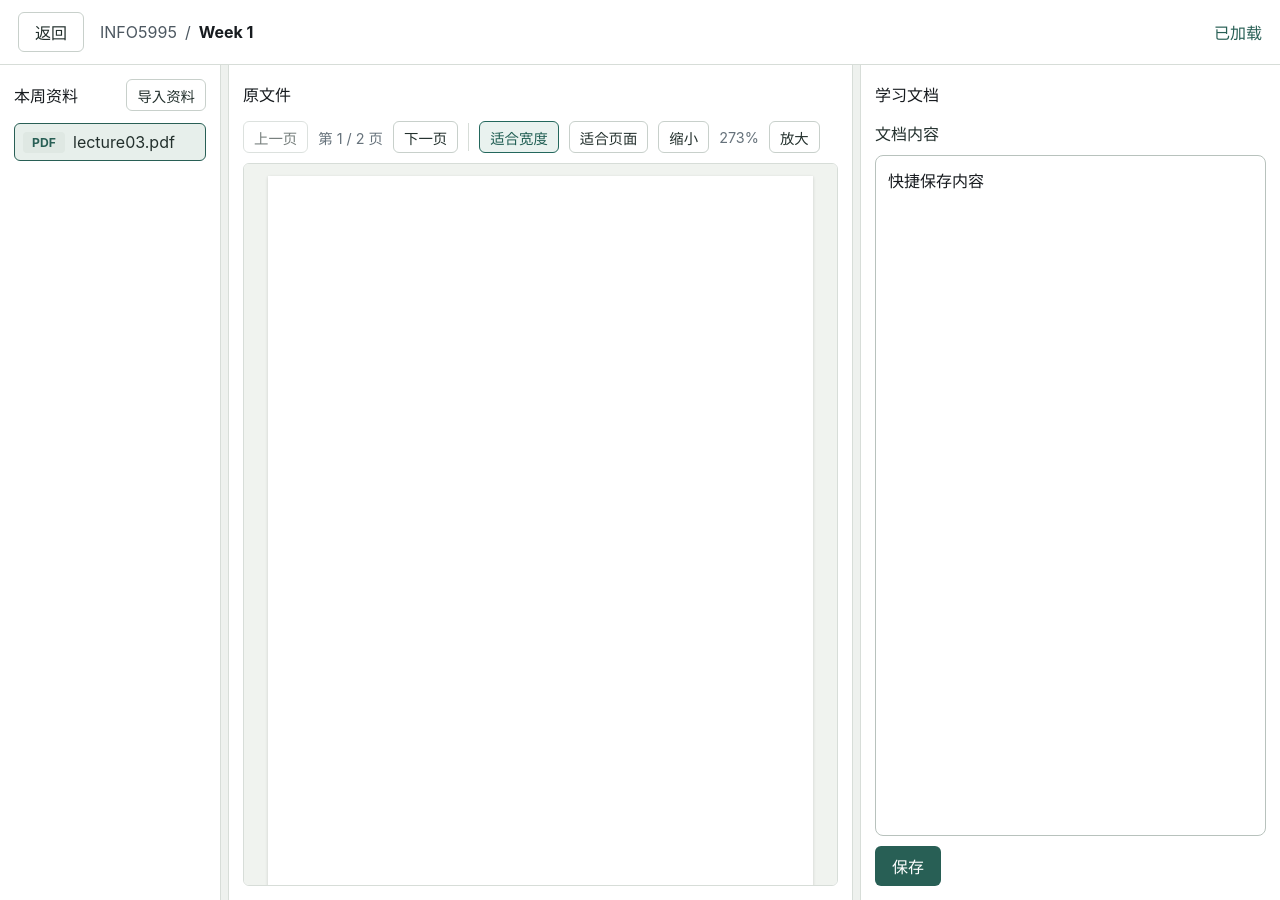
Test: WorkspacePage › Cmd 或 Ctrl + S 可以保存
Expected: the text "INFO5995" is shown, [100,22,177,42]
Expected: the text "Week 1" is shown, [199,22,253,42]
Clear the field named "文档内容". click: (1070, 496)
box: [875,155,1266,836]
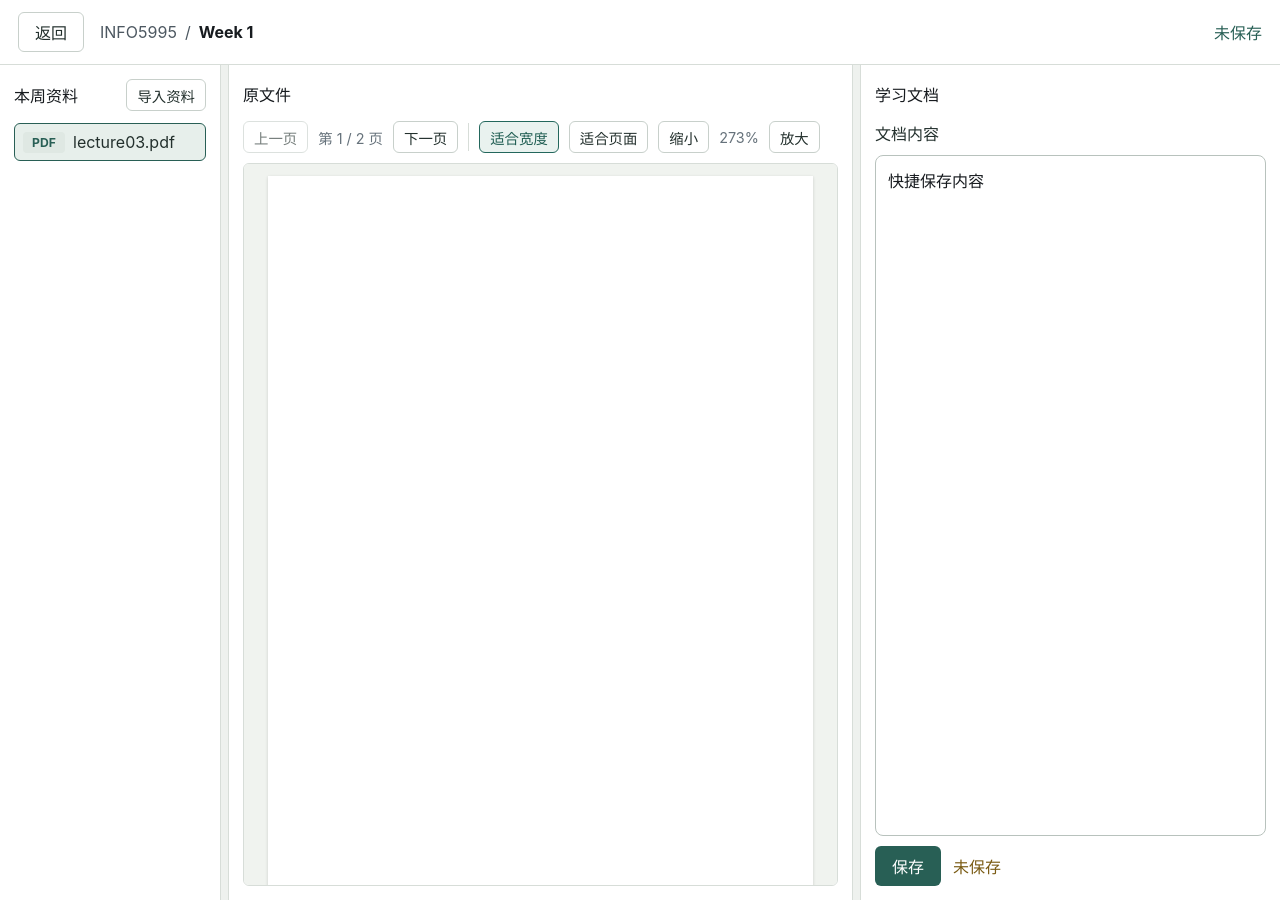
Press s in the field named "文档内容", box [875,155,1266,836]
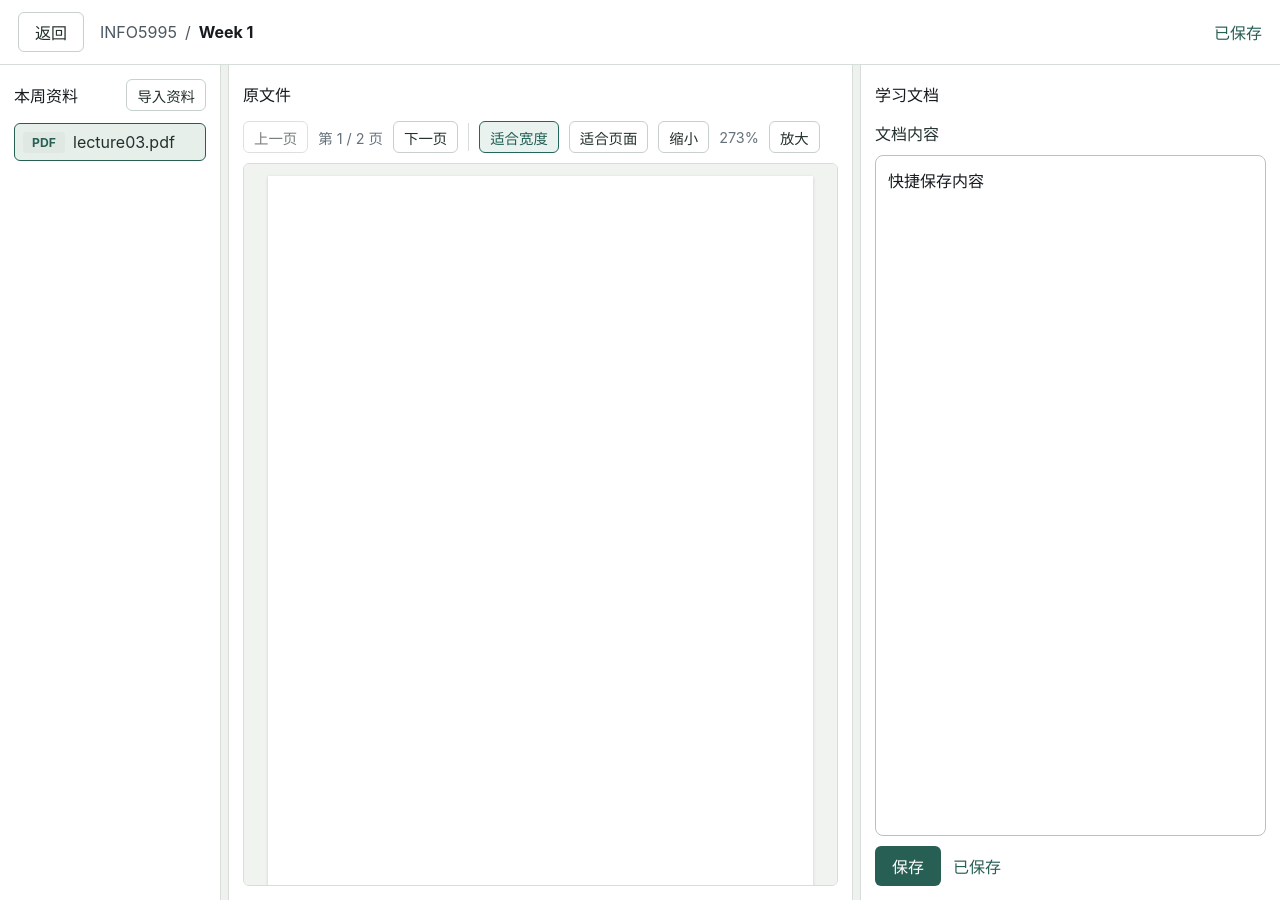
Expected: the text "已保存" is shown, [953,854,1001,878]
